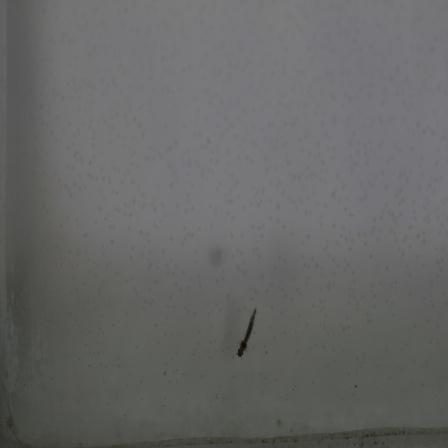Jentik-Nyamuk: (229, 301, 265, 362)
